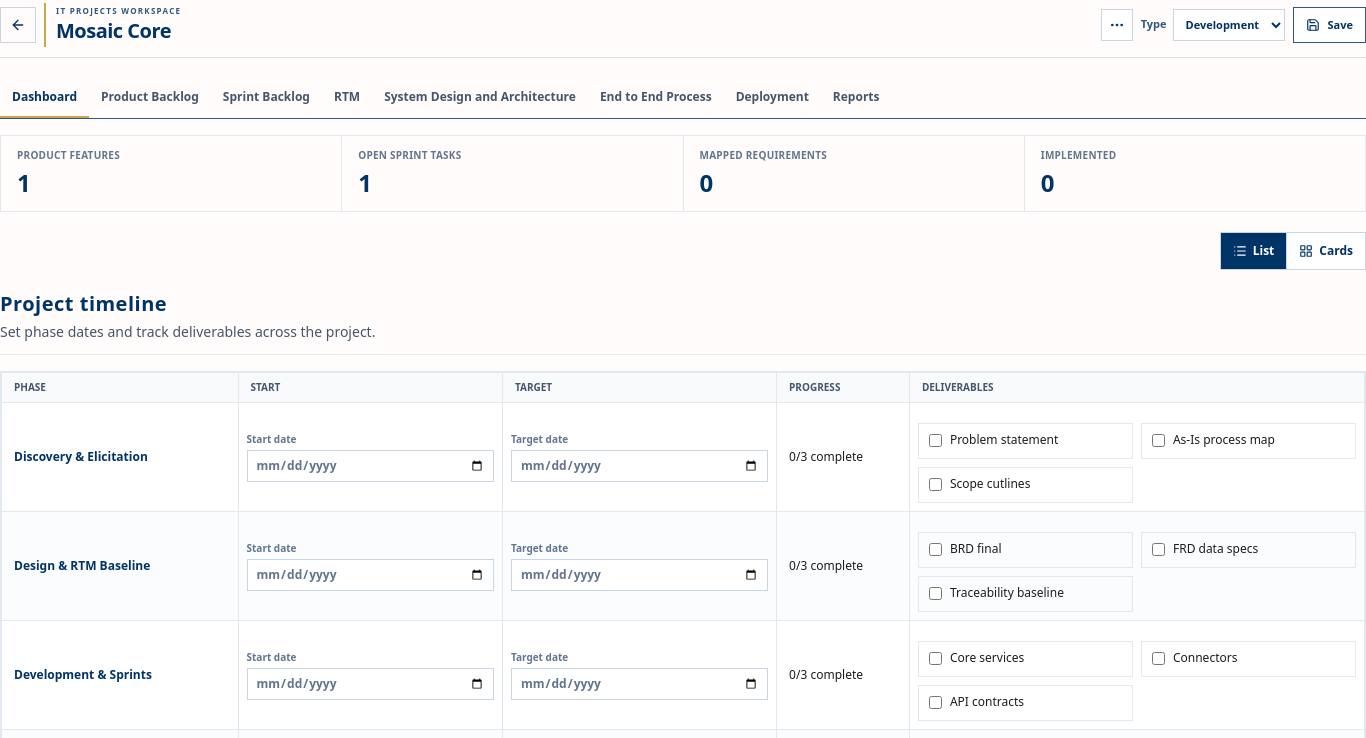
Test: IT Projects workspace › keeps a useful list and card view available across all eight sections
Earlier steps of the test are not shown.
Later steps or results of the test are not shown.
Click the tab "Product Backlog": (150, 98) [89, 78, 211, 118]
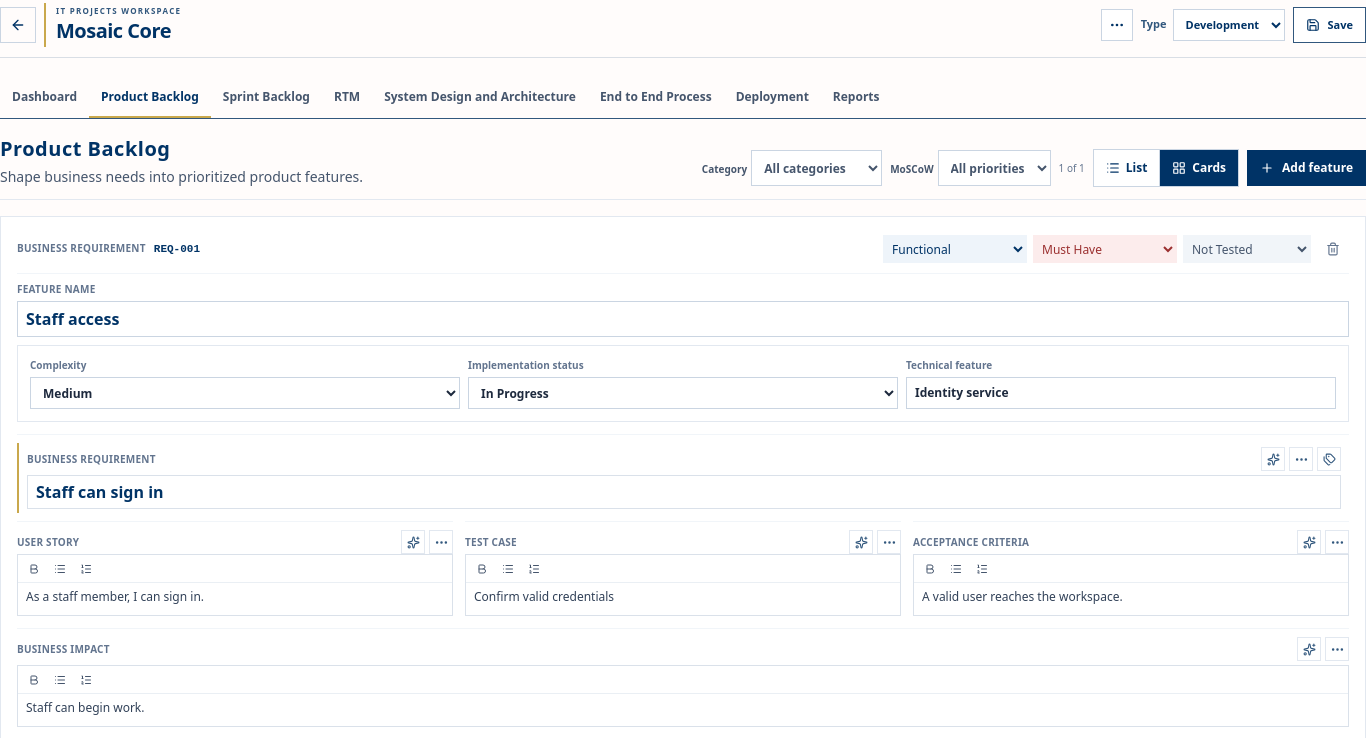
Click the button "Cards": (1199, 168) [1159, 150, 1238, 186]
Result: the text box named "REQ-001 business requirement" is shown at [27, 475, 1341, 509]
Click the button "List": (1126, 168) [1094, 150, 1159, 186]
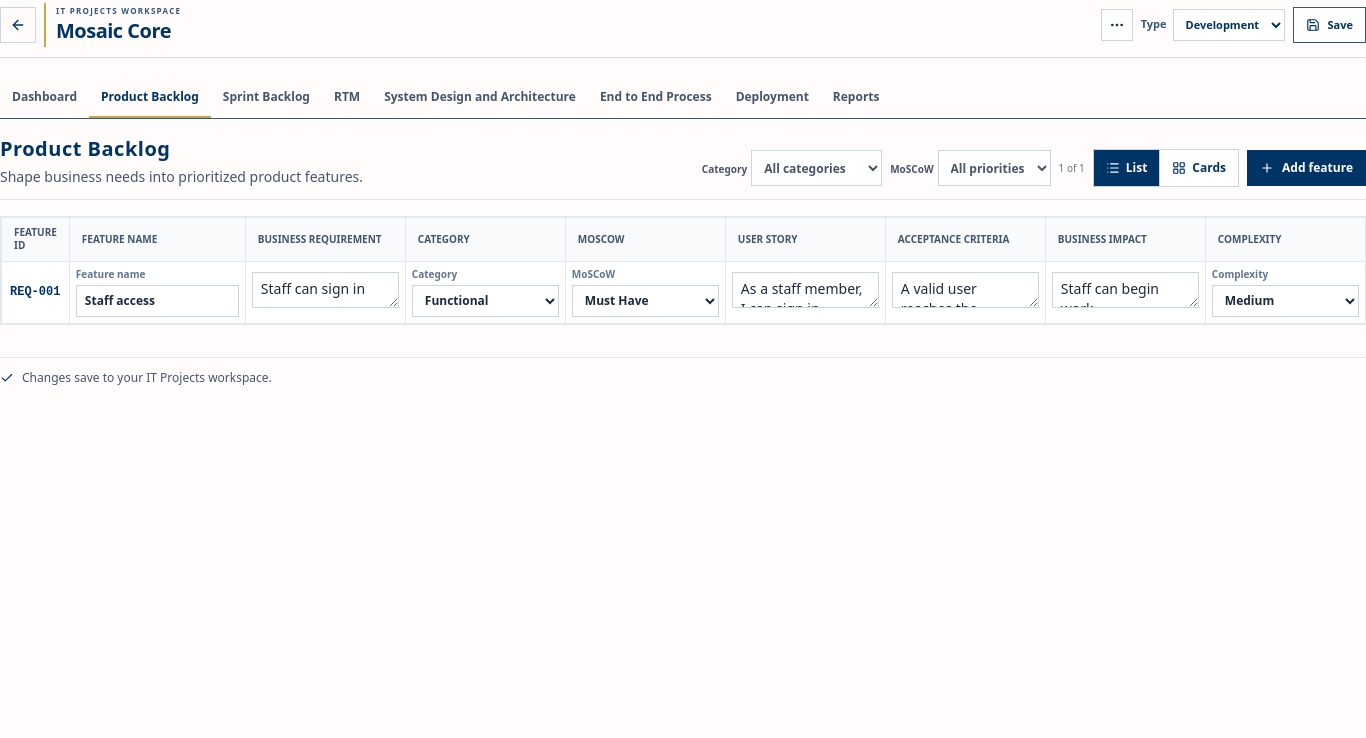
Result: the table is shown at [1, 217, 1365, 324]
Click the tab "Sprint Backlog": (266, 98) [211, 78, 322, 118]
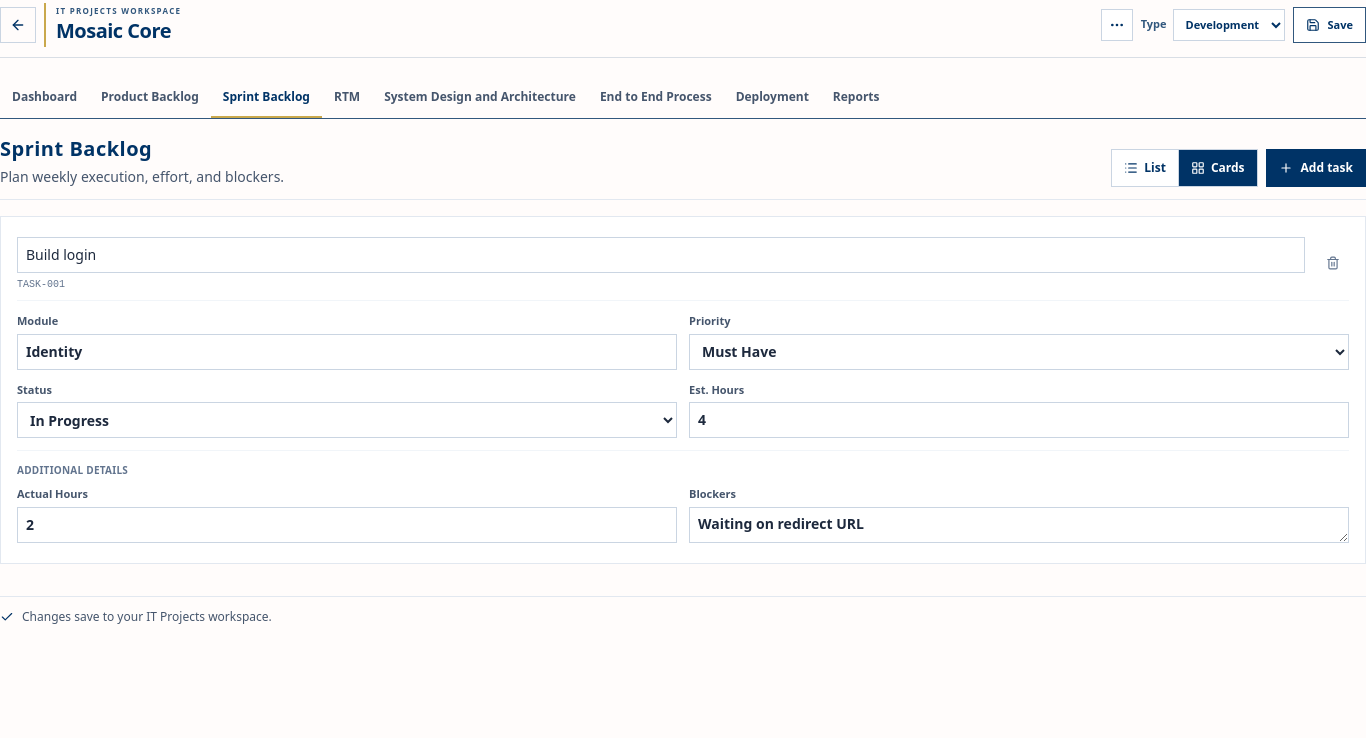
Click the button "Cards": (1217, 168) [1178, 150, 1257, 186]
Result: the field named "TASK-001 Task Name" is shown at [17, 237, 1305, 273]
Click the button "List": (1145, 168) [1112, 150, 1178, 186]
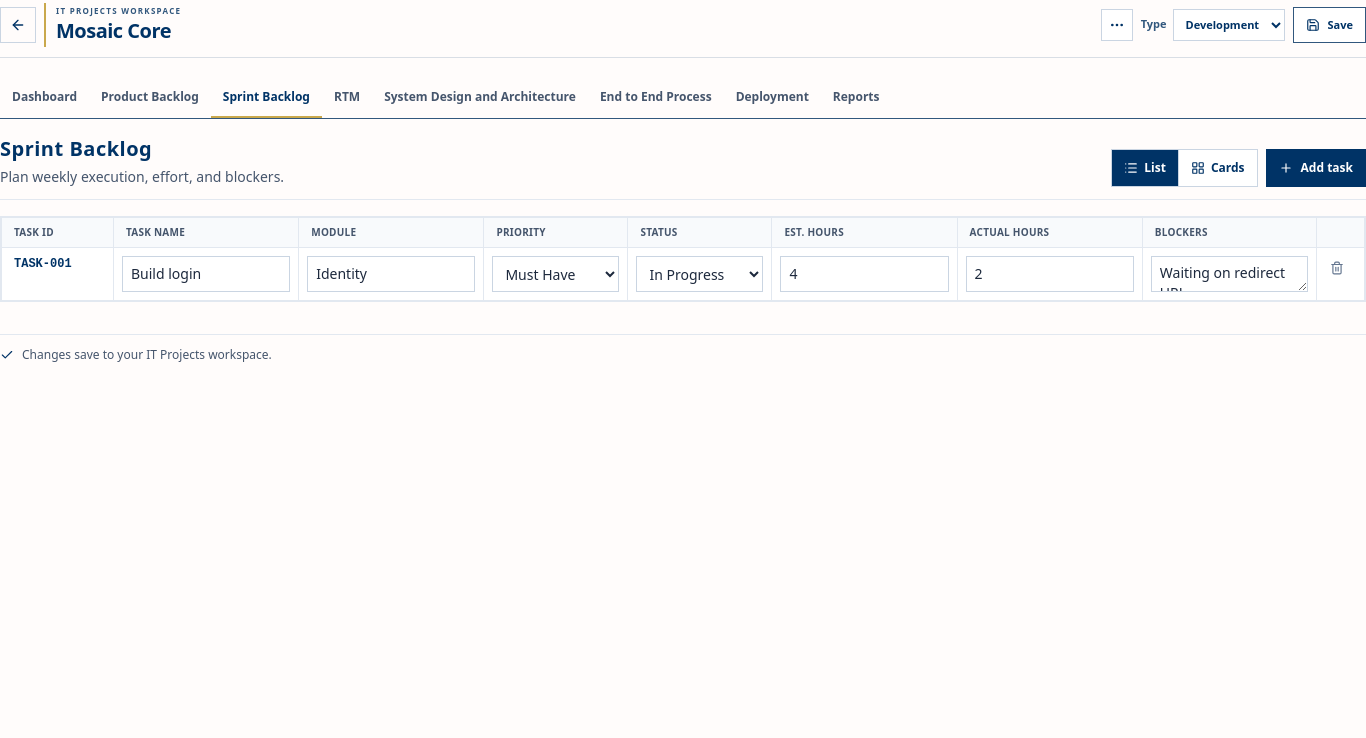
Result: the table is shown at [1, 217, 1365, 301]
Click the tab "RTM": (347, 98) [322, 78, 372, 118]
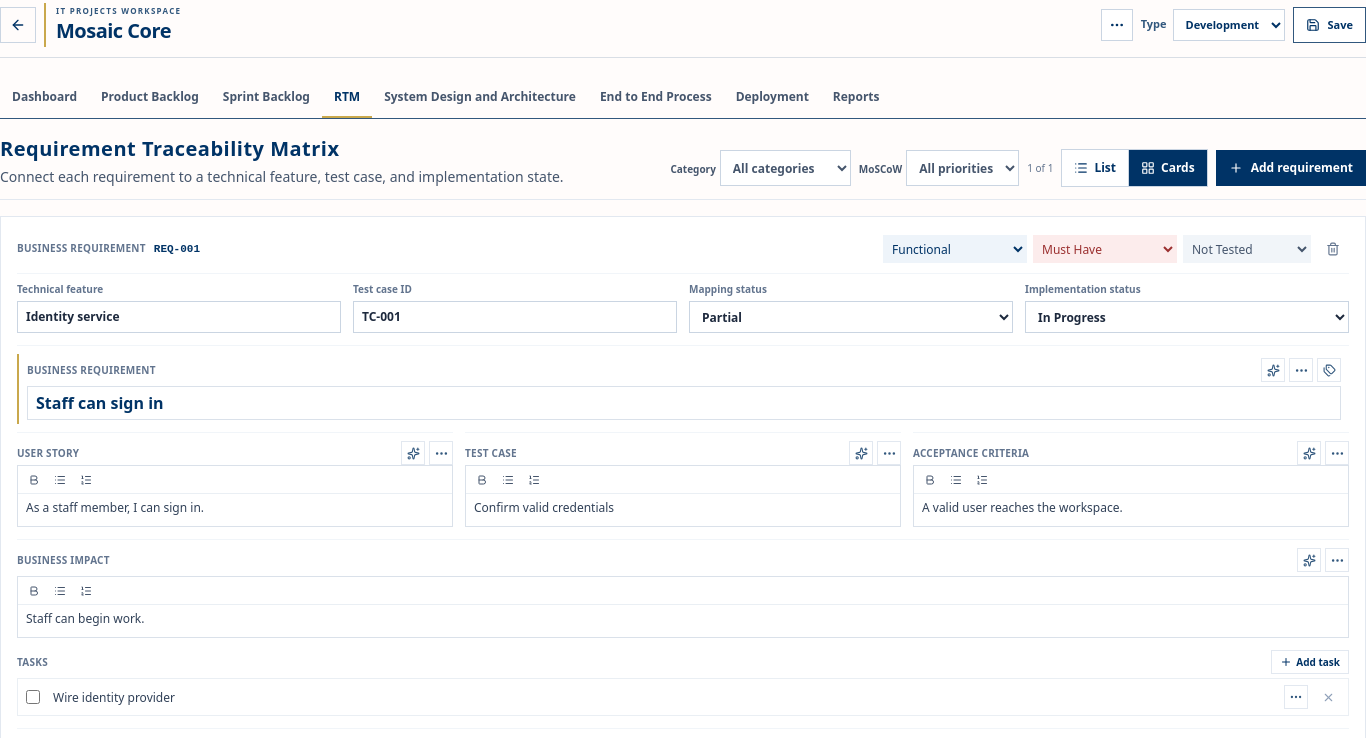
Click the button "Cards": (1167, 168) [1128, 150, 1207, 186]
Result: the text box named "REQ-001 business requirement" is shown at [27, 386, 1341, 420]
